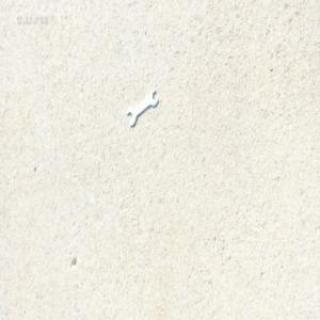Wrenchtrack_idkeyframe: (126, 87, 158, 125)
